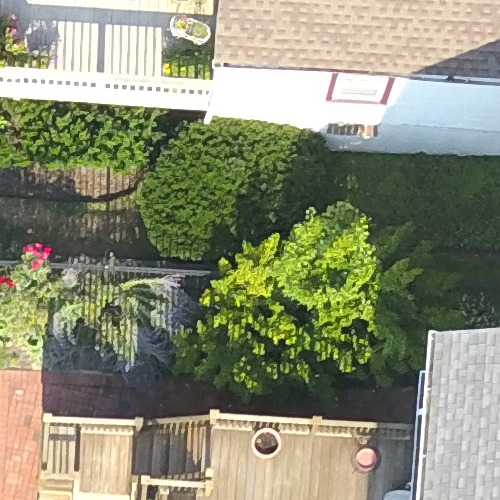container: (168, 9, 215, 53), (351, 442, 384, 479)
flower pot: (251, 423, 292, 462)
porch: (28, 384, 442, 500)
